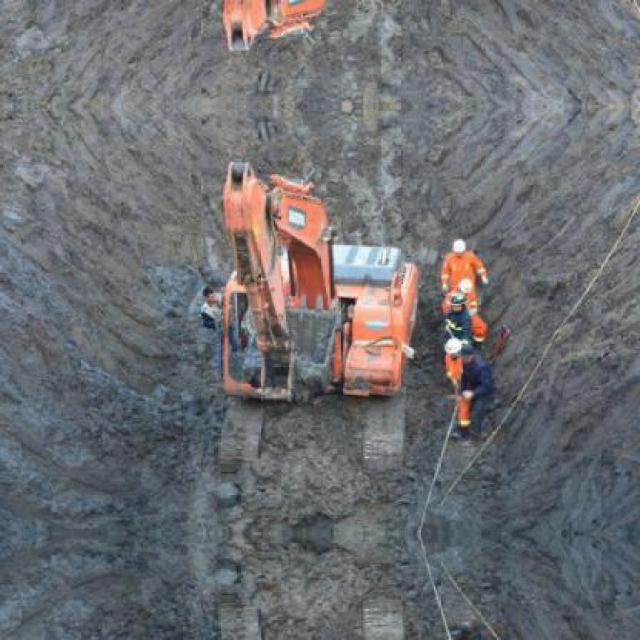Reflective-Jacket: (437, 250, 489, 299), (442, 312, 478, 347)
Safety-Helmet: (446, 235, 472, 258), (442, 336, 464, 358), (448, 291, 470, 310)
